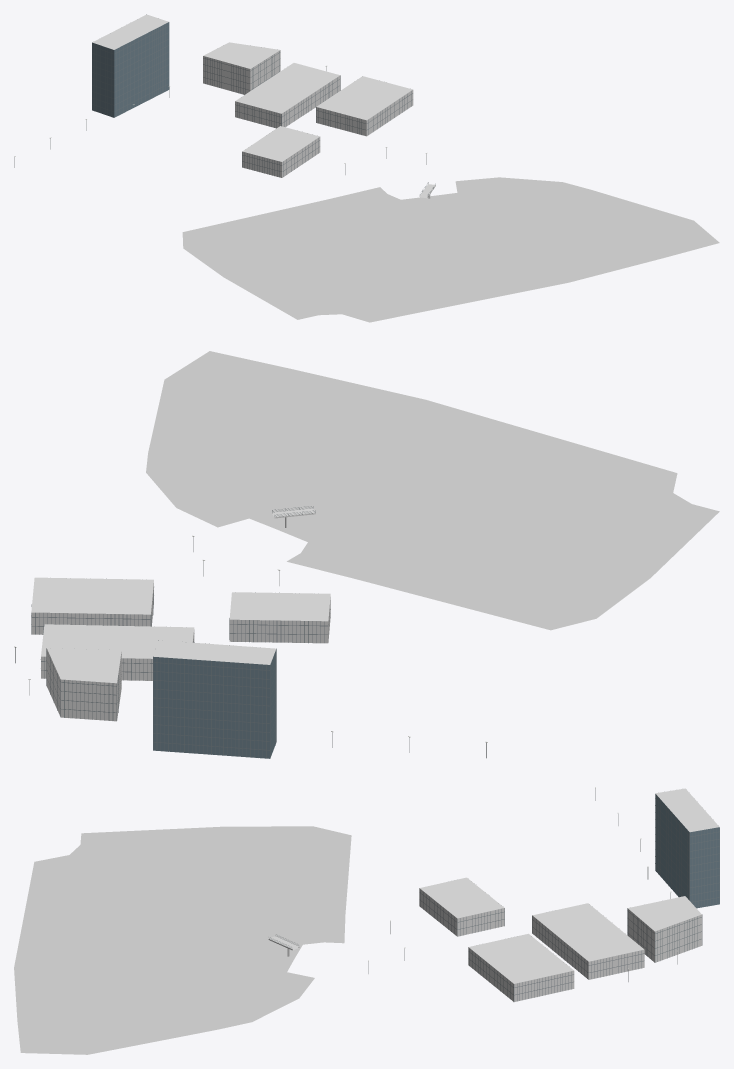
3 renders of one model, top to bottom at view 1: azimuth 30°, elevation 25°; view 2: azimuth 150°, elevation 25°; view 3: azimuth 270°, elevation 25°, orthographic. The views are drawn at different scales.
Parts seen in each view (by area): view 1: -3_-5_v02 草地, -3_-5_v02 深灰屋面, -3_-5_v02 米白石材, -3_-5_超高层蓝灰幕墙, -3_-5_城市金属细框; view 2: -3_-5_v02 草地, -3_-5_v02 深灰屋面, -3_-5_超高层蓝灰幕墙, -3_-5_v02 米白石材, -3_-5_城市金属细框; view 3: -3_-5_v02 草地, -3_-5_v02 深灰屋面, -3_-5_v02 米白石材, -3_-5_城市金属细框, -3_-5_超高层蓝灰幕墙.
Part boxes in pixels (<box>): -3_-5_v02 草地: <box>182,177,719,322</box>; -3_-5_v02 深灰屋面: <box>92,14,412,161</box>; -3_-5_v02 米白石材: <box>203,50,413,177</box>; -3_-5_超高层蓝灰幕墙: <box>92,22,169,117</box>; -3_-5_城市金属细框: <box>92,14,412,177</box>; -3_-5_v02 草地: <box>146,351,719,630</box>; -3_-5_v02 深灰屋面: <box>31,577,330,683</box>; -3_-5_超高层蓝灰幕墙: <box>153,649,276,758</box>; -3_-5_v02 米白石材: <box>31,583,330,721</box>; -3_-5_城市金属细框: <box>31,578,330,758</box>; -3_-5_v02 草地: <box>14,826,351,1054</box>; -3_-5_v02 深灰屋面: <box>420,788,719,983</box>; -3_-5_v02 米白石材: <box>419,888,701,1001</box>; -3_-5_城市金属细框: <box>419,795,719,1001</box>; -3_-5_超高层蓝灰幕墙: <box>655,794,719,908</box>.
Size of the model in its own units: 299 by 42.85 by 351.
